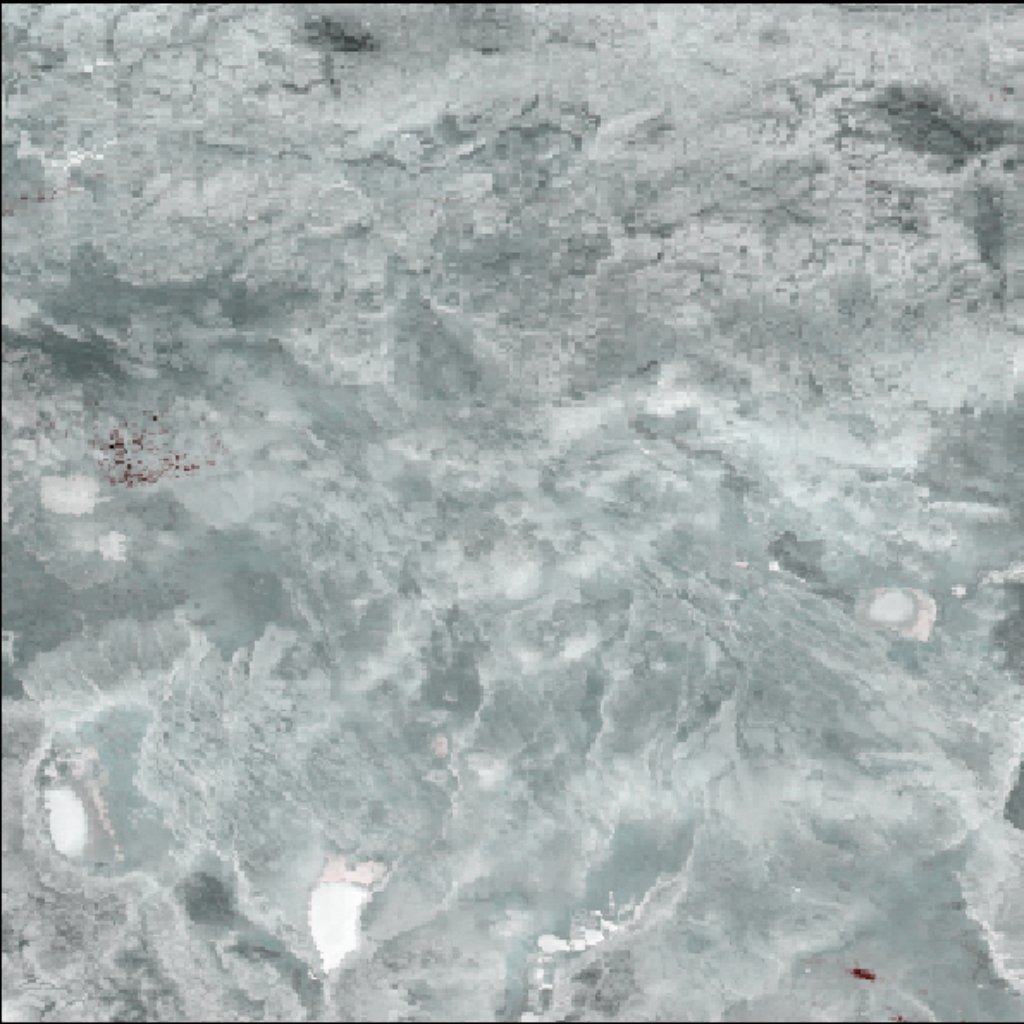fire: (2, 4, 1024, 1023)
